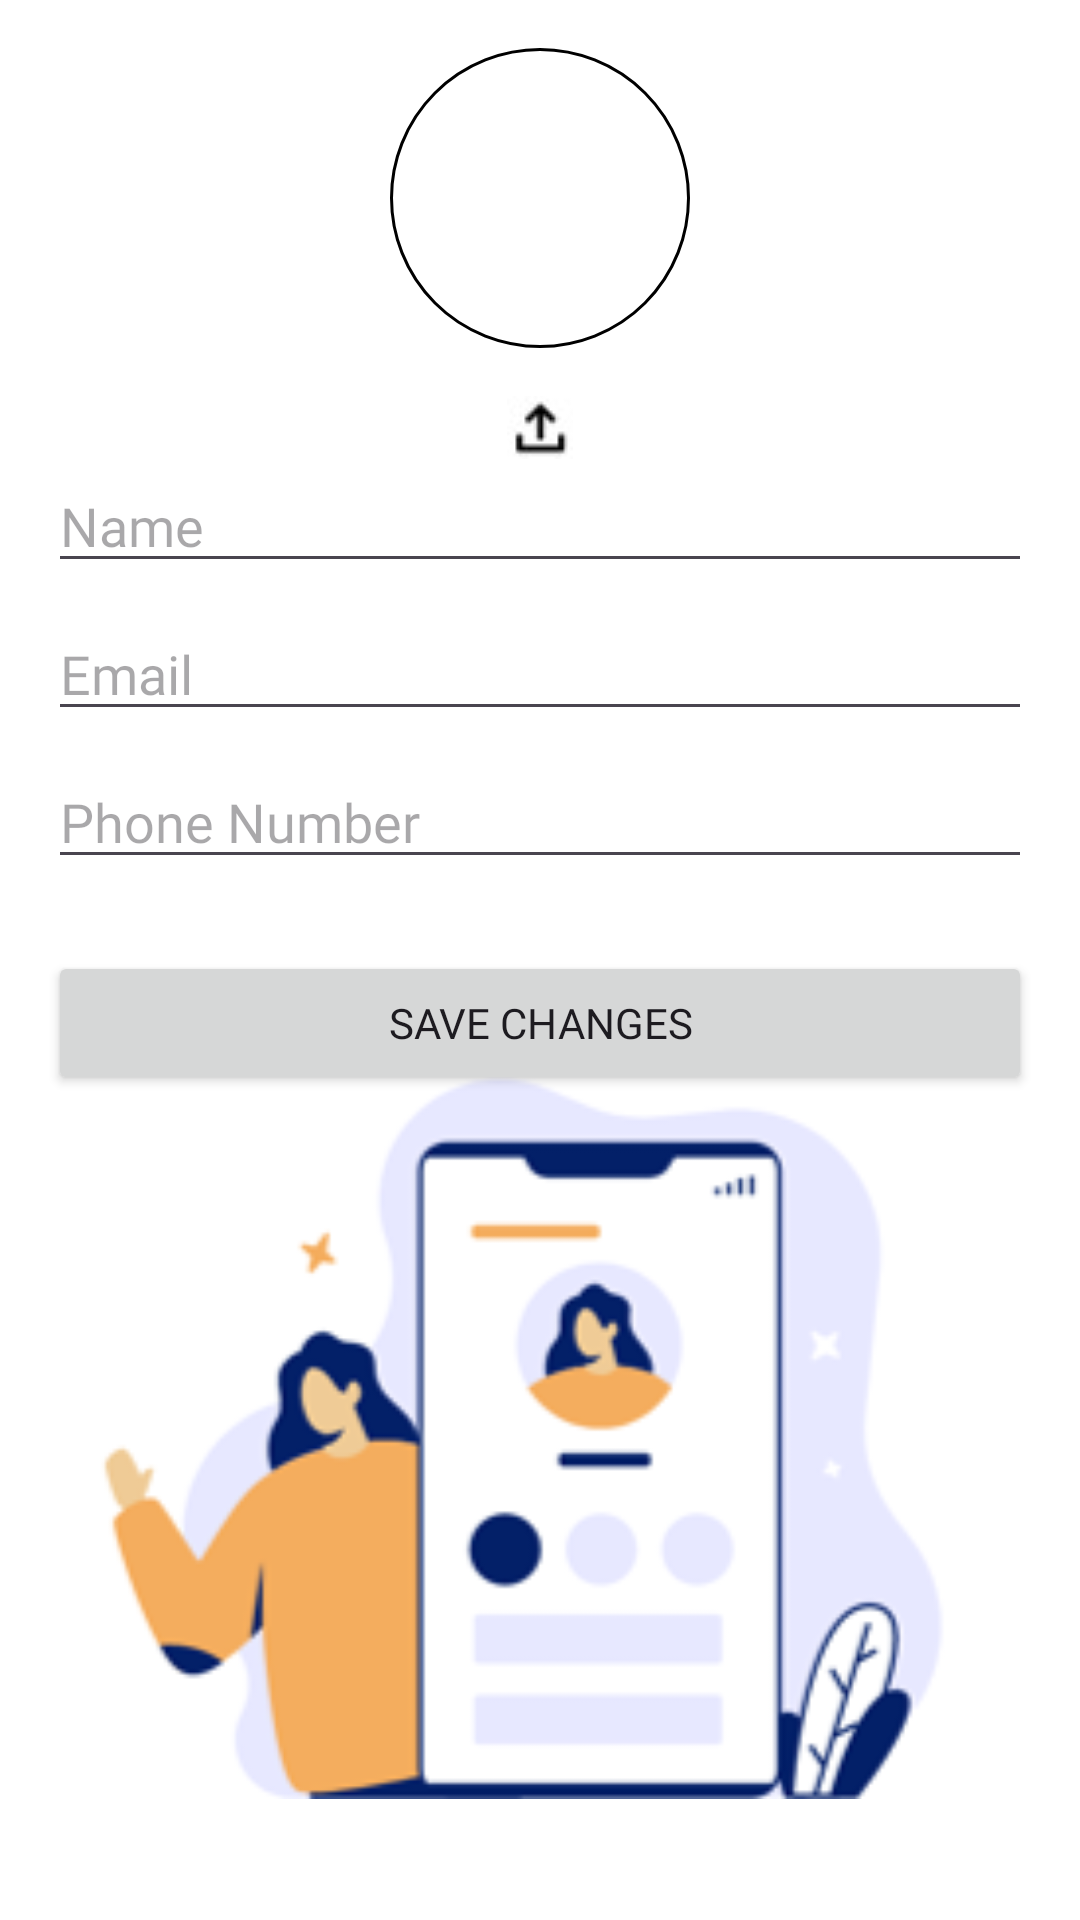

Named icons in this screenshot (1080px x 1920px) and their centers, (x=x, y=y):
upload: (x=541, y=428)
